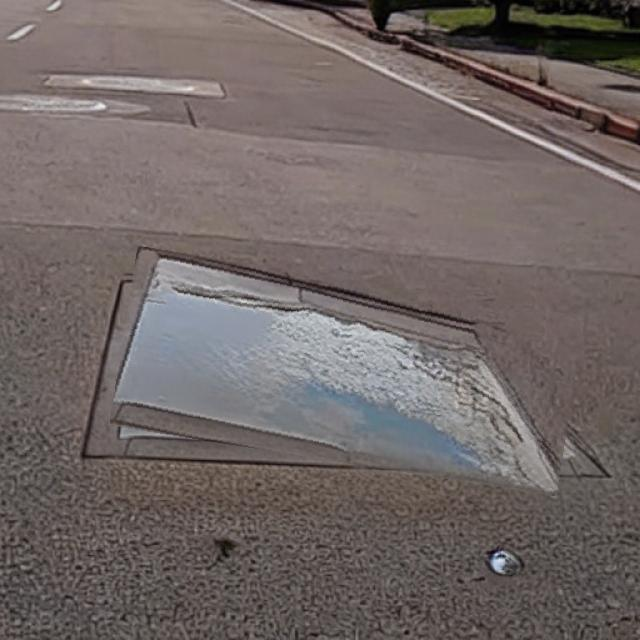puddle: (115, 265, 580, 481)
